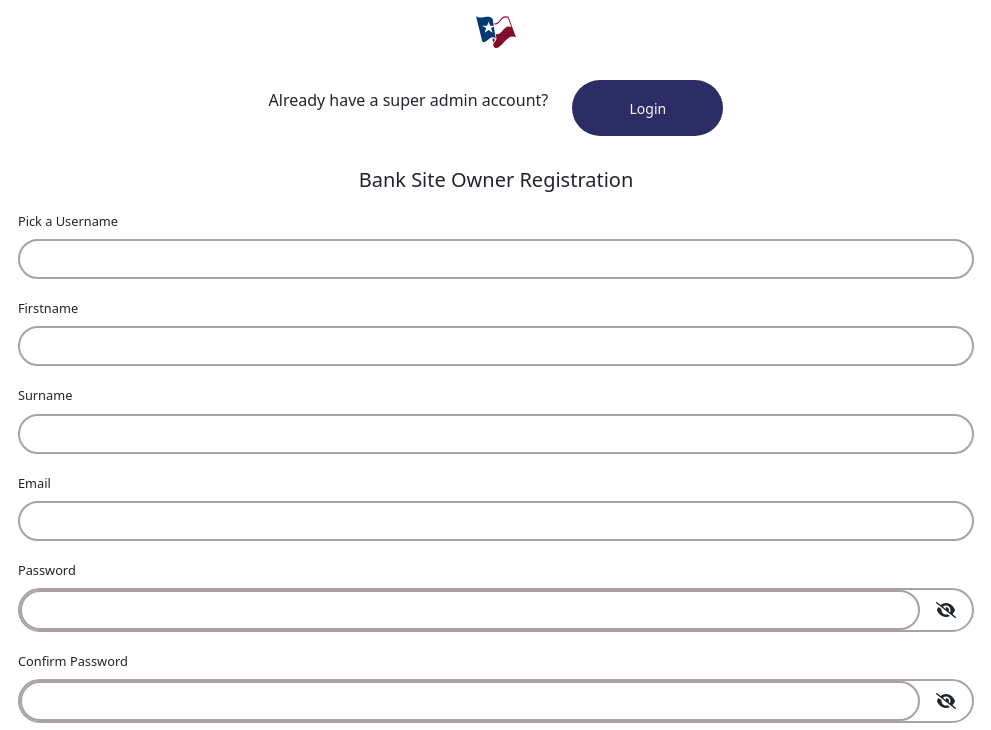
Test case: Super Admin Sign-Up and Email Verification Flow › should display password strength messages
This screenshot has width=991, height=730.
Type "weakpassword" into the password field with test id "password-input".
click(470, 610); type("weakpassword")  # box [20, 590, 920, 630]
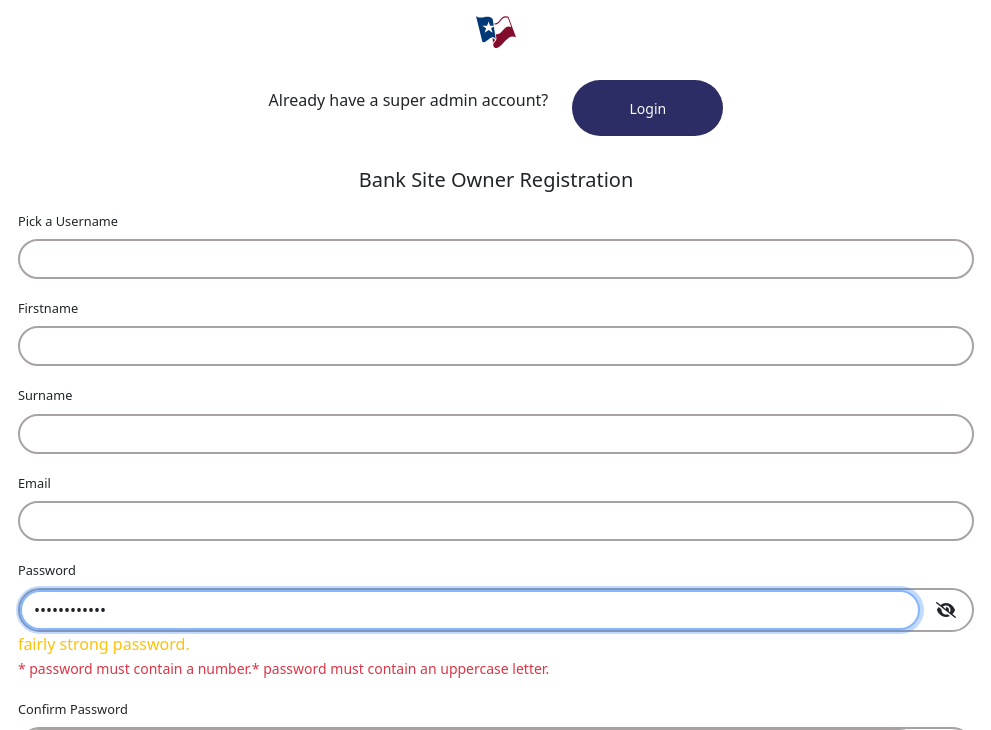
Check: the text "* password must contain a number." is shown, box [18, 659, 252, 678]
